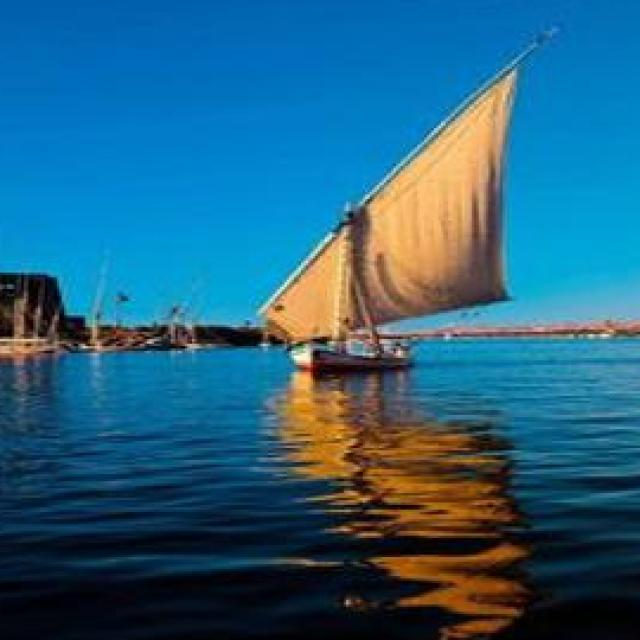sailboat: (218, 20, 536, 375)
